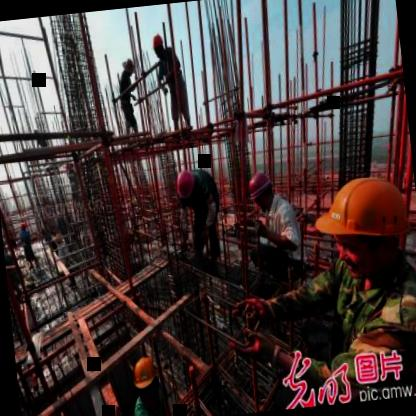helmet: (311, 169, 416, 284), (129, 354, 163, 406), (247, 172, 274, 214), (171, 164, 196, 204), (148, 34, 166, 61)
